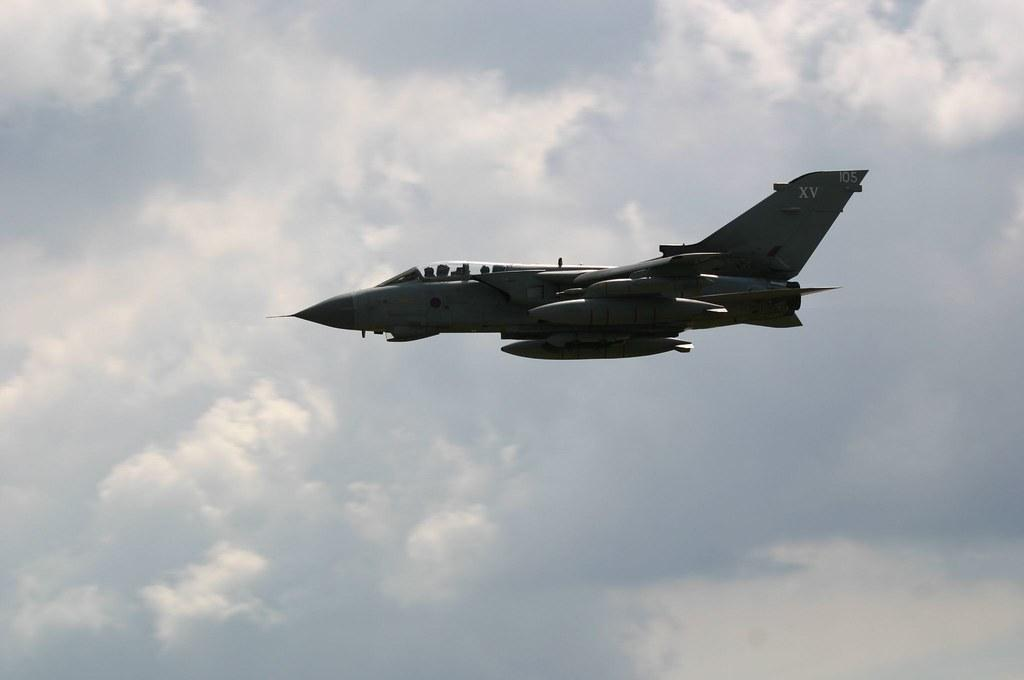plane: (266, 168, 870, 362)
